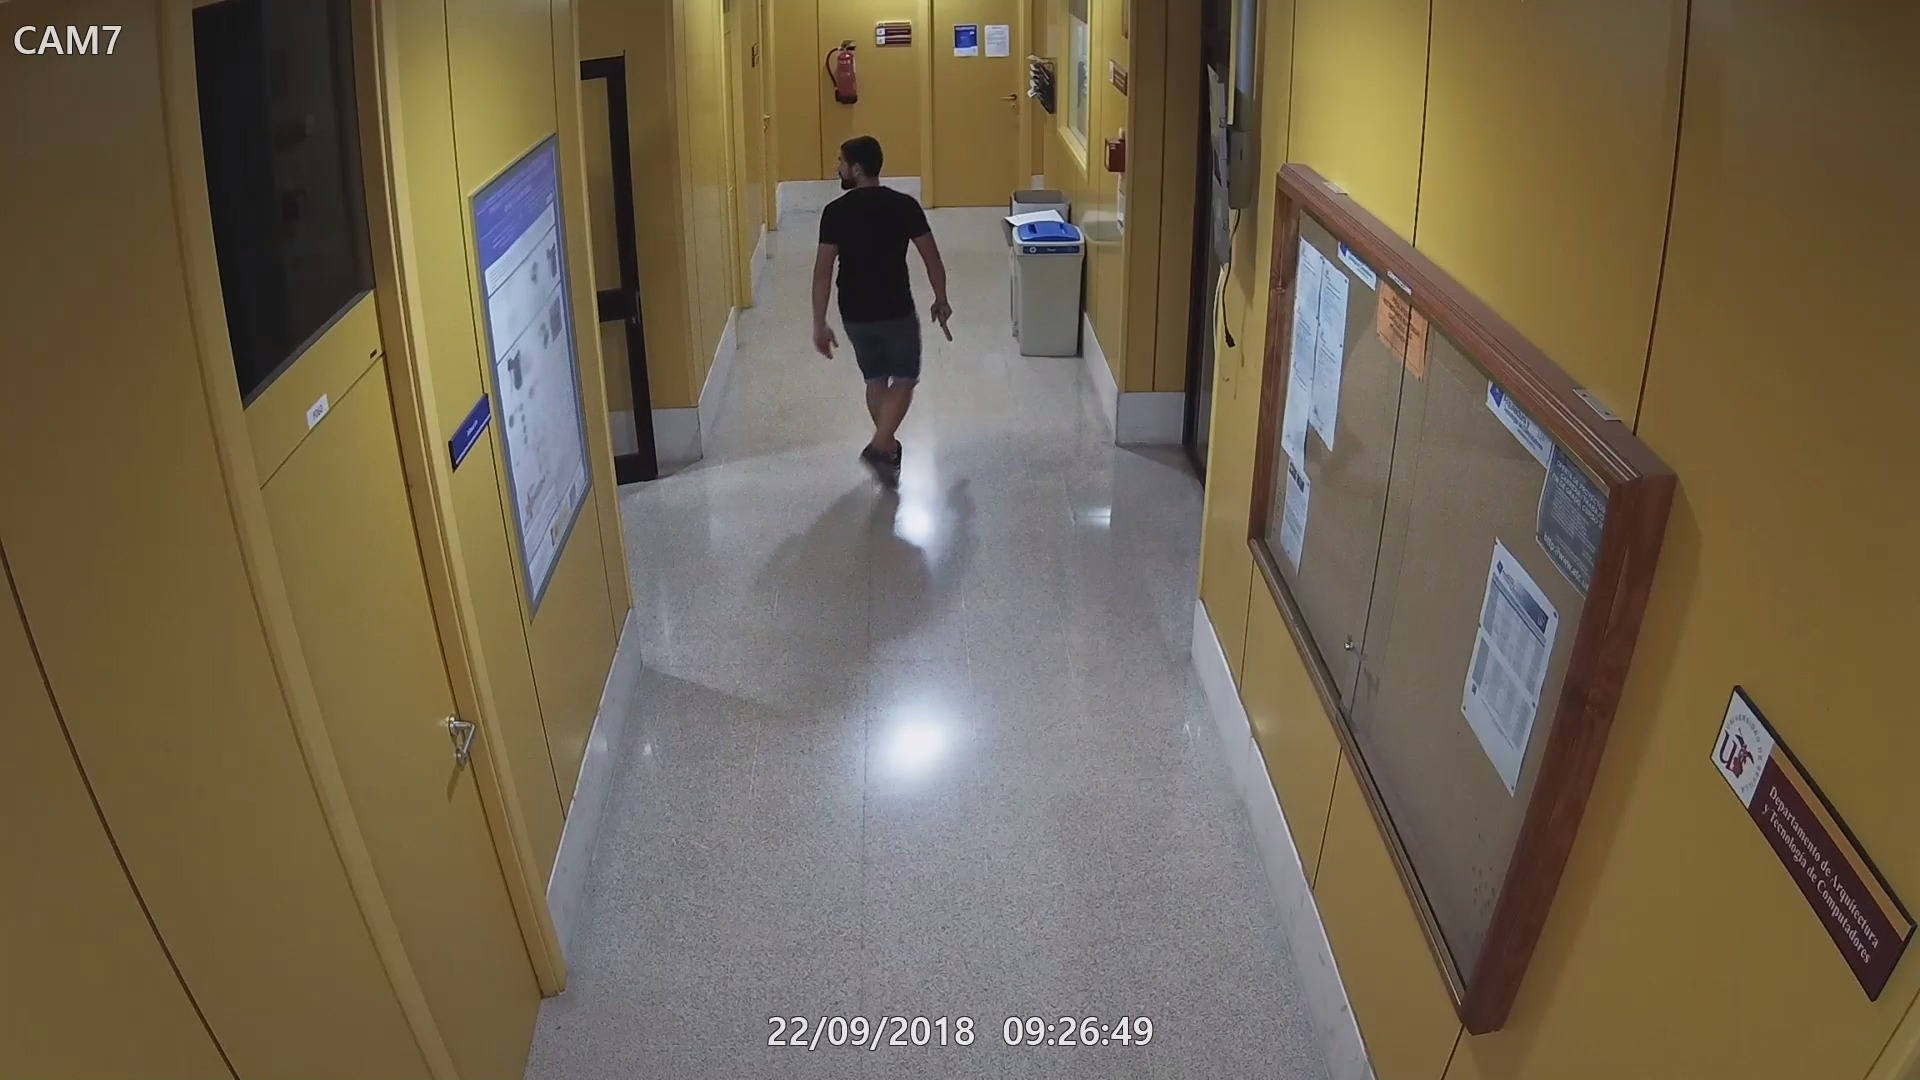Handgun: (926, 297, 957, 343)
